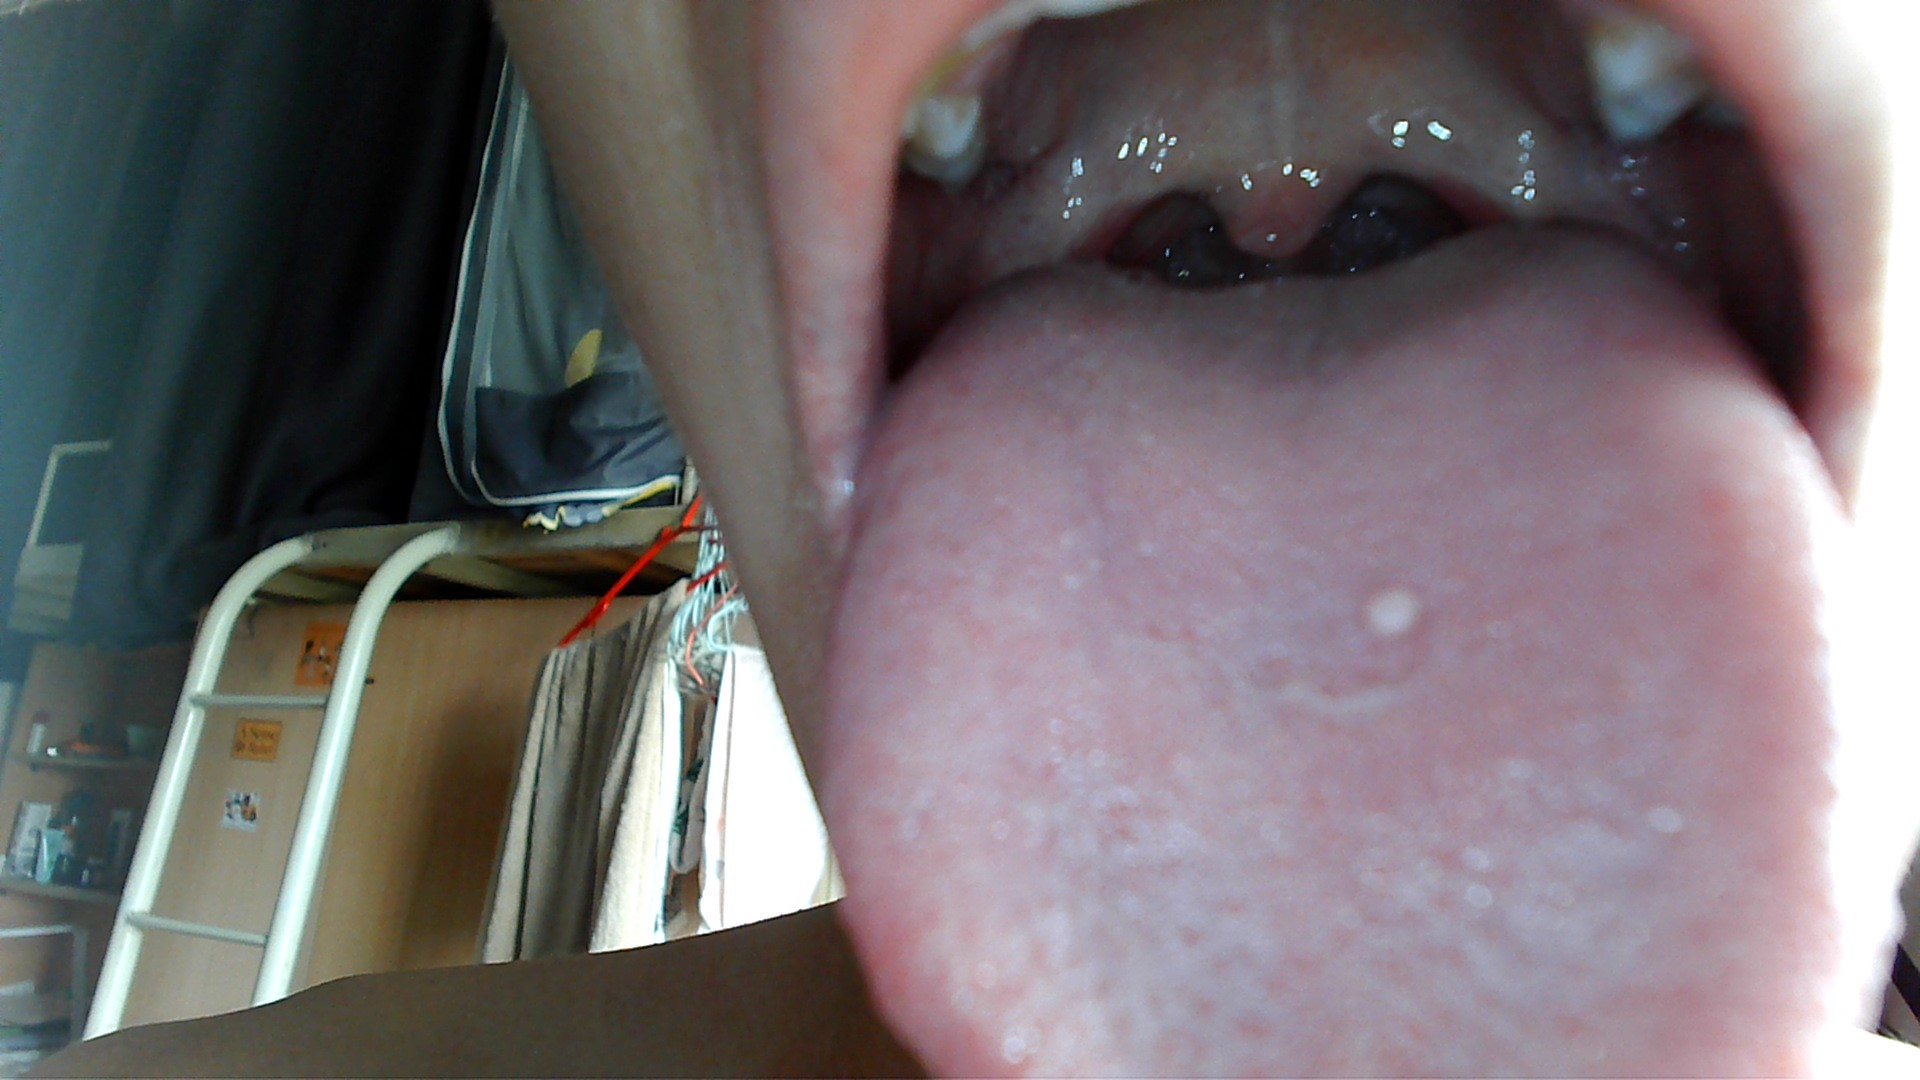throat: (1422, 112, 1578, 220), (982, 171, 1130, 264)
